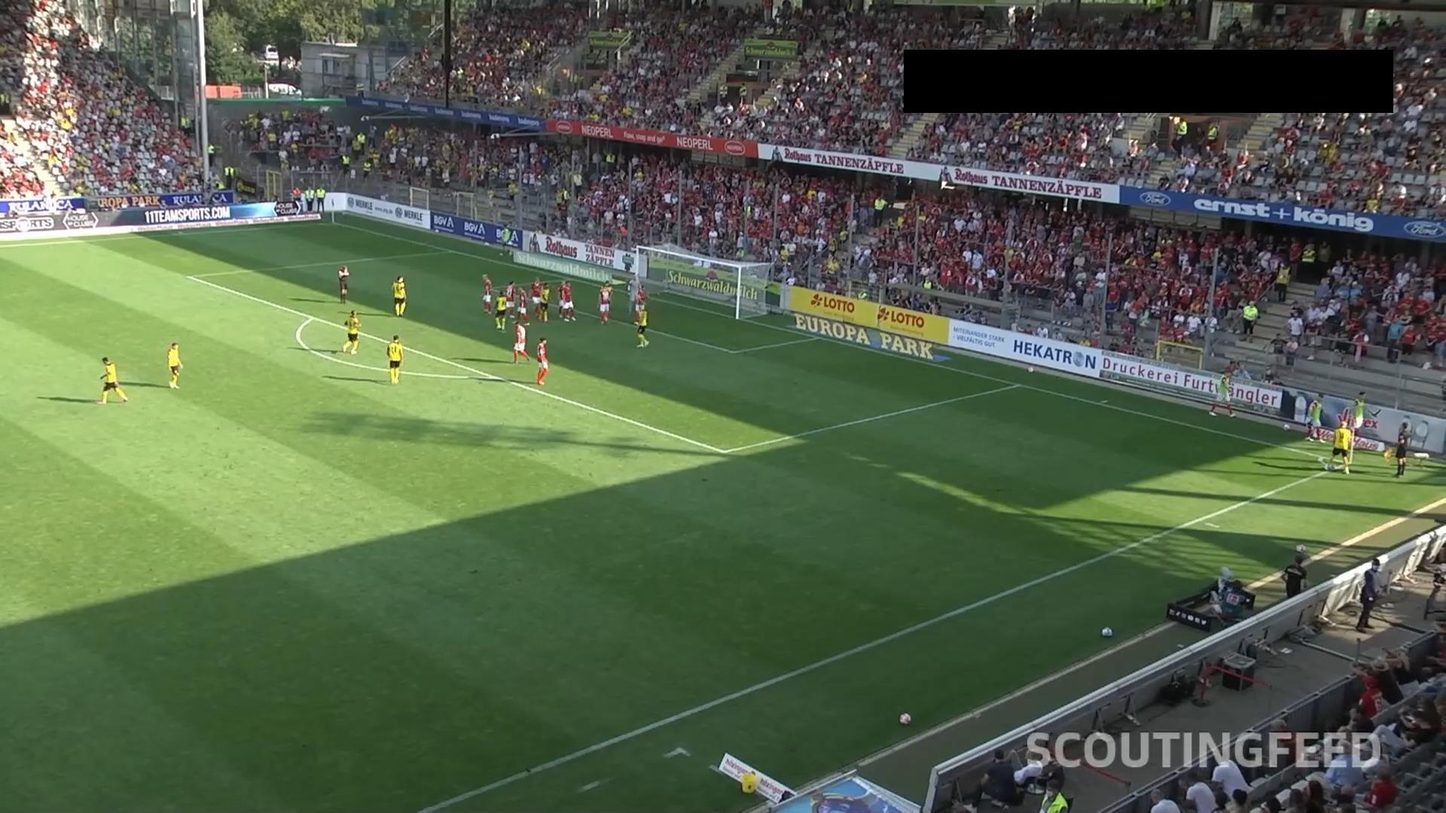ball: (1329, 462, 1337, 473)
goalkeeper: (627, 273, 643, 314)
player: (100, 355, 130, 406), (1332, 422, 1357, 476), (163, 343, 187, 392), (387, 334, 406, 384), (511, 321, 533, 364), (343, 311, 361, 354), (634, 304, 651, 349), (536, 336, 551, 385), (563, 282, 579, 323), (517, 284, 531, 326), (392, 276, 407, 315), (494, 291, 508, 330), (480, 272, 493, 314), (635, 285, 648, 327), (596, 289, 610, 325), (532, 276, 544, 316), (599, 279, 613, 313), (538, 282, 549, 323), (555, 281, 567, 318), (506, 281, 516, 318)
referee: (1383, 418, 1417, 484), (338, 266, 350, 305)
